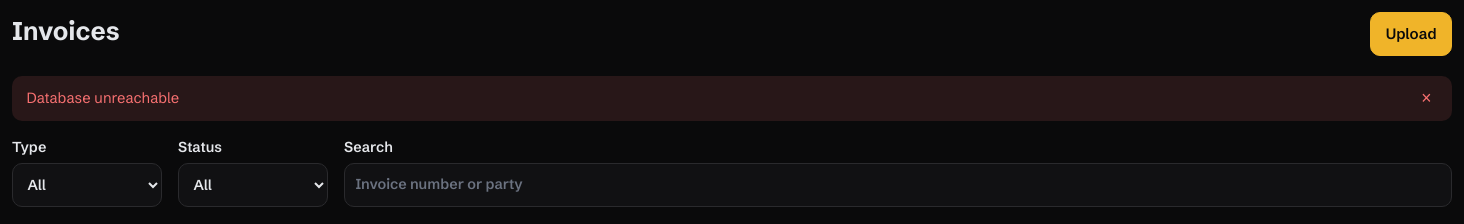
Test: InvoicesPage › surfaces a failed load and lets it be dismissed
Check: the message shows "Database unreachable", box [26,89,179,107]
Click the button named "Dismiss" at (1426, 99), box [1415,87,1438,110]
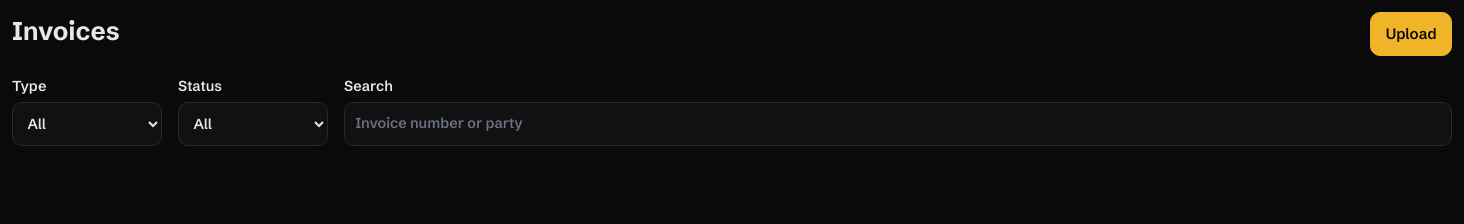
Check: the message "Database unreachable ×" is gone
